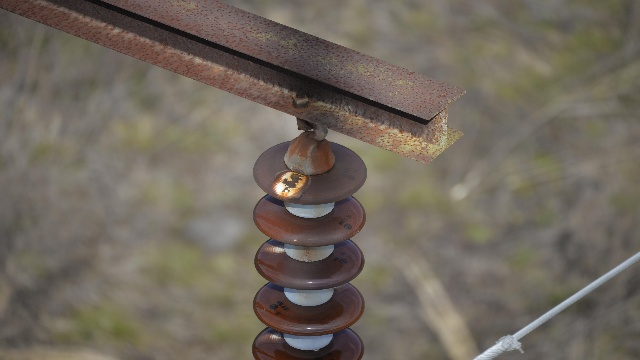insulator_unspecified: (251, 137, 372, 359)
pollution_flashover_local: (270, 168, 305, 198), (254, 329, 288, 347), (261, 239, 284, 255)
